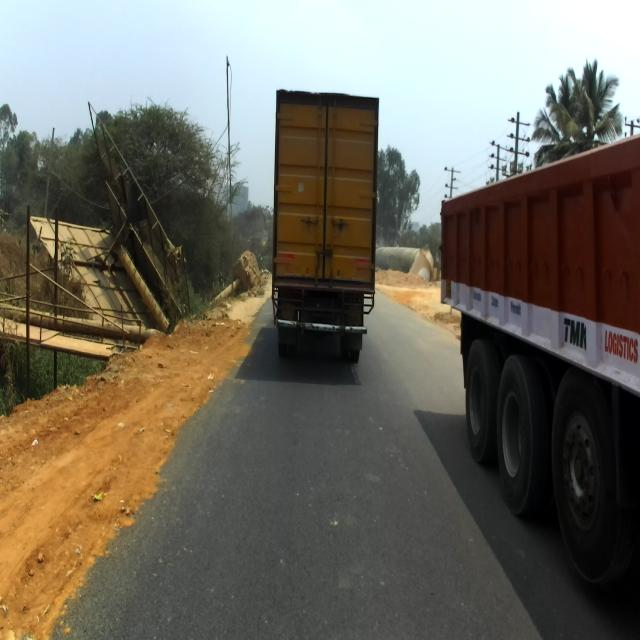truck ahead at: (435, 136, 640, 628), (269, 82, 376, 364)
